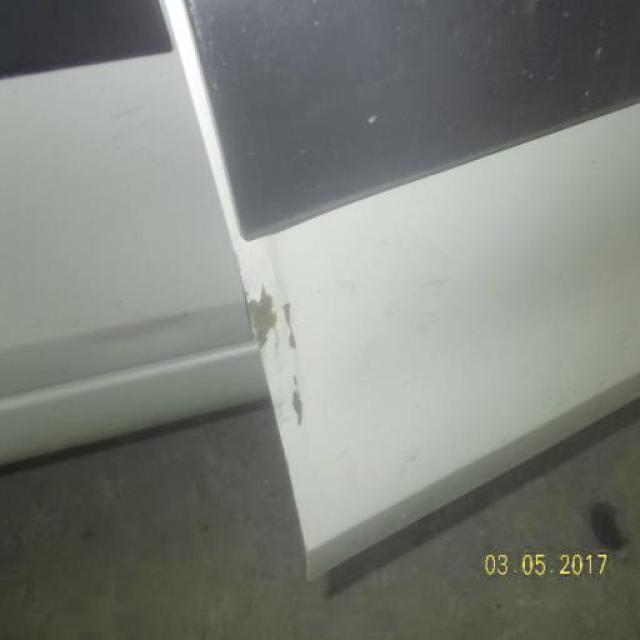Car-Damage: (247, 280, 281, 357), (290, 377, 307, 429), (283, 302, 298, 351)
